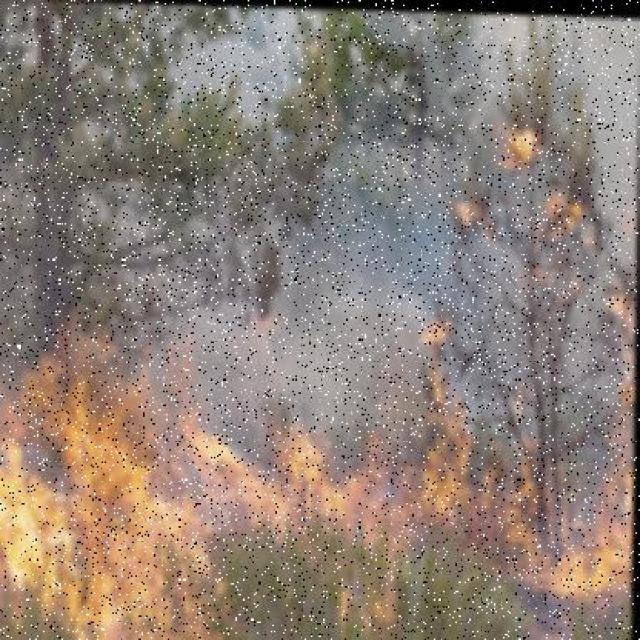fire: (1, 376, 637, 640)
